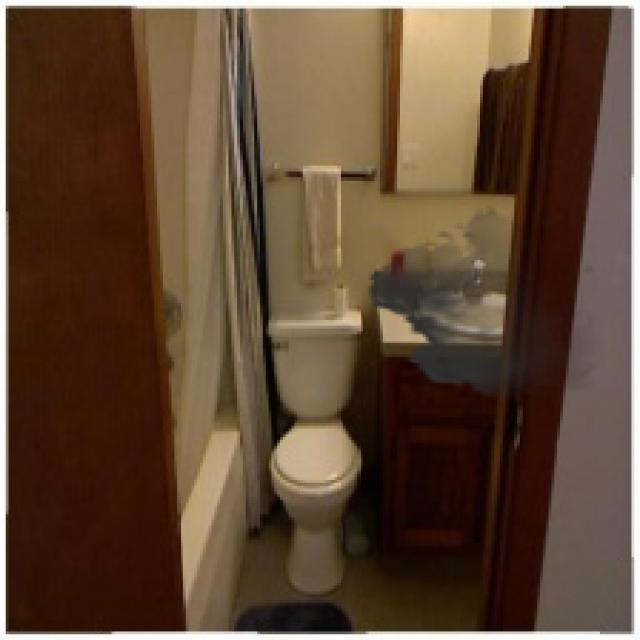smoke: (357, 203, 609, 403)
